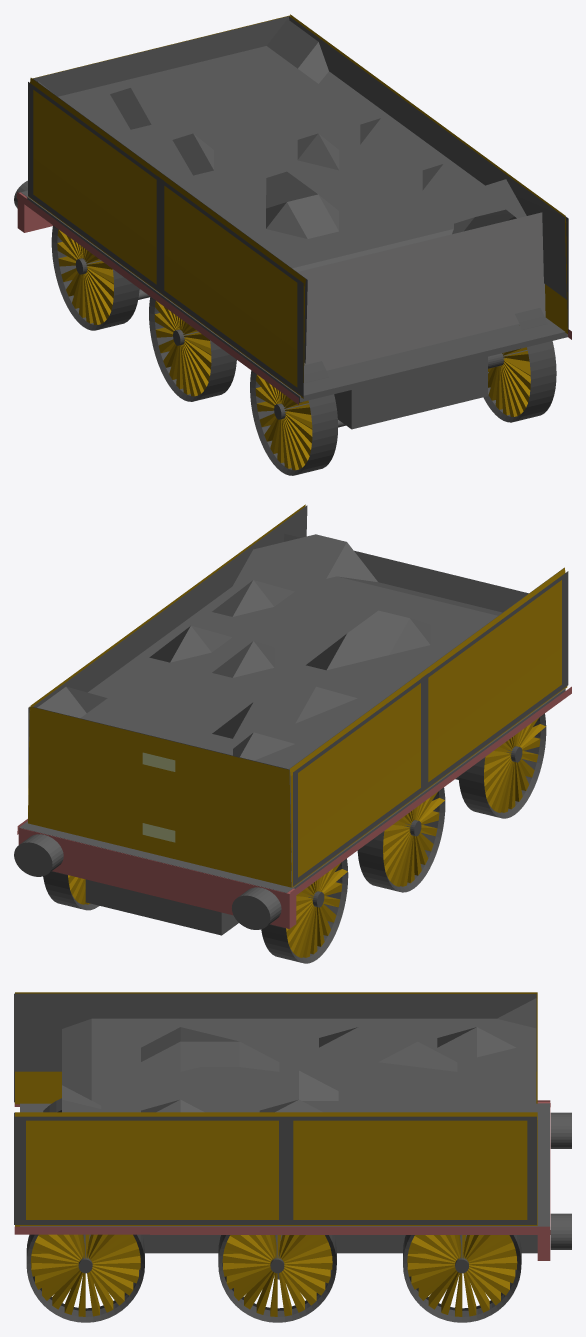
File: lbscr-gladstone-tender.dae
3 renders of one model, top to bottom at view 1: azimuth 30°, elevation 25°; view 2: azimuth 150°, elevation 25°; view 3: azimuth 270°, elevation 25°, orthographic. The views are drawn at different scales.
Parts seen in each view (by area): view 1: Plane_028, Plane_055, Plane_007, Plane_013, Cylinder_000, Plane_006, Plane, Plane_001, Cylinder_008, Cylinder_005, Plane_008, Plane_009 (+5 smaller); view 2: Plane_028, Plane_005, Plane_007, Plane_006, Plane_004, Plane_013, Cylinder_008, Cylinder_000, Cylinder_005, Plane_008, Plane_055, Plane_001 (+7 smaller); view 3: Plane_028, Plane_017, Plane_019, Plane_013, Cylinder_000, Cylinder_008, Cylinder_005, Plane_011, Plane_015, Plane_001, Plane_021, Plane (+6 smaller).
Part boxes in pixels (left/top/right/bottom): Plane_028: left=37, top=19, right=526, bottom=271; Plane_055: left=297, top=212, right=545, bottom=370; Plane_007: left=33, top=90, right=304, bottom=355; Plane_013: left=33, top=16, right=566, bottom=363; Cylinder_000: left=250, top=308, right=556, bottom=475; Plane_006: left=28, top=158, right=304, bottom=398; Plane: left=21, top=190, right=567, bottom=402; Plane_001: left=334, top=356, right=487, bottom=429; Cylinder_008: left=51, top=225, right=139, bottom=330; Cylinder_005: left=149, top=297, right=236, bottom=401; Plane_008: left=28, top=82, right=303, bottom=397; Plane_009: left=16, top=192, right=298, bottom=404; Plane_028: left=37, top=534, right=502, bottom=769; Plane_005: left=28, top=706, right=291, bottom=887; Plane_007: left=290, top=580, right=561, bottom=845; Plane_006: left=291, top=648, right=567, bottom=887; Plane_004: left=18, top=828, right=296, bottom=928; Plane_013: left=33, top=505, right=563, bottom=852; Cylinder_008: left=43, top=852, right=348, bottom=963; Cylinder_000: left=458, top=713, right=546, bottom=818; Cylinder_005: left=357, top=787, right=445, bottom=892; Plane_008: left=293, top=571, right=568, bottom=886; Plane_055: left=284, top=533, right=528, bottom=612; Plane_001: left=85, top=879, right=238, bottom=935; Plane_028: left=62, top=998, right=536, bottom=1112; Plane_017: left=26, top=1120, right=537, bottom=1185; Plane_019: left=15, top=1185, right=537, bottom=1226; Plane_013: left=14, top=993, right=536, bottom=1116; Cylinder_000: left=26, top=1098, right=144, bottom=1322; Cylinder_008: left=403, top=1235, right=521, bottom=1322; Cylinder_005: left=218, top=1235, right=336, bottom=1322; Plane_011: left=14, top=1116, right=536, bottom=1224; Plane_015: left=14, top=1226, right=550, bottom=1234; Plane_001: left=142, top=1234, right=537, bottom=1253; Plane_021: left=15, top=1112, right=537, bottom=1119; Plane: left=20, top=1103, right=549, bottom=1226.
Size of the model in its own units: 1.94 by 3.62 by 1.52.
